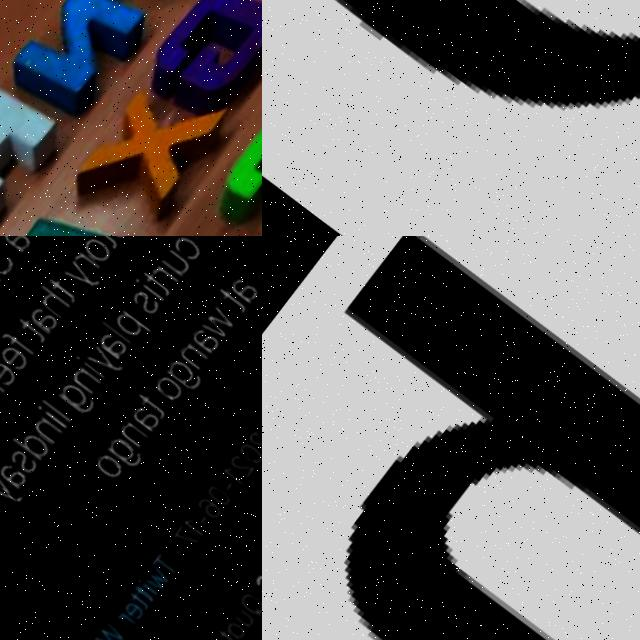0: (205, 482, 235, 510), (236, 440, 262, 468)
1: (223, 466, 247, 487), (183, 518, 208, 538)
2: (229, 456, 255, 480), (246, 430, 262, 455)
6: (195, 496, 226, 524), (251, 571, 262, 601)
7: (174, 524, 203, 551)
9: (262, 0, 640, 228)
A: (25, 304, 60, 336), (225, 276, 260, 308), (95, 332, 129, 363), (129, 404, 163, 435), (0, 461, 29, 492), (189, 328, 220, 356), (0, 236, 31, 253)
C: (204, 81, 262, 236), (170, 236, 202, 264)
D: (10, 425, 53, 464)
E: (0, 343, 30, 373), (123, 599, 150, 625), (0, 356, 20, 389)
F: (1, 330, 36, 359)
G: (130, 0, 262, 141), (56, 380, 98, 419), (163, 357, 204, 395), (105, 434, 145, 472)
H: (262, 236, 640, 640), (0, 60, 81, 236), (32, 286, 71, 321)
I: (133, 280, 166, 305), (75, 355, 106, 379), (37, 405, 67, 429), (137, 579, 161, 600)
K: (83, 0, 224, 37)
L: (102, 322, 134, 346), (40, 399, 71, 423)
N: (8, 0, 156, 123), (68, 365, 104, 398), (117, 420, 152, 453), (177, 342, 209, 372), (32, 417, 63, 446)
O: (92, 451, 129, 485), (150, 373, 187, 406), (79, 236, 114, 267), (223, 619, 251, 640)
P: (112, 309, 154, 348)
Q: (236, 590, 262, 622)
R: (70, 250, 103, 279), (150, 263, 181, 291), (117, 611, 140, 632)
S: (7, 447, 41, 478), (129, 290, 160, 318), (0, 240, 17, 279), (98, 236, 129, 242)
T: (140, 270, 175, 301), (14, 316, 49, 346), (134, 392, 169, 422), (215, 287, 249, 317), (46, 277, 78, 305), (151, 553, 179, 579), (86, 236, 120, 251), (133, 585, 158, 605), (128, 592, 151, 612), (217, 630, 240, 640)
U: (159, 249, 191, 279), (234, 609, 259, 633)
W: (199, 306, 237, 343), (145, 567, 174, 595), (94, 620, 128, 640)
X: (64, 63, 231, 236)
Y: (86, 345, 126, 381), (62, 261, 102, 296), (0, 475, 26, 512)
